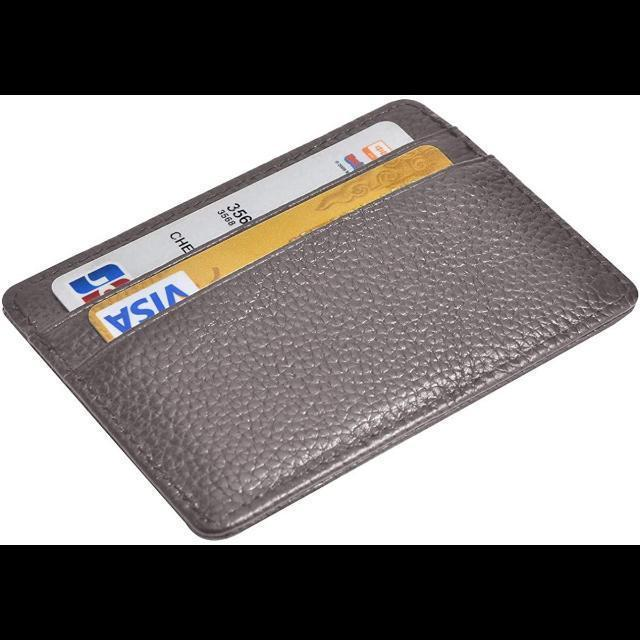wallet: (1, 96, 636, 536)
